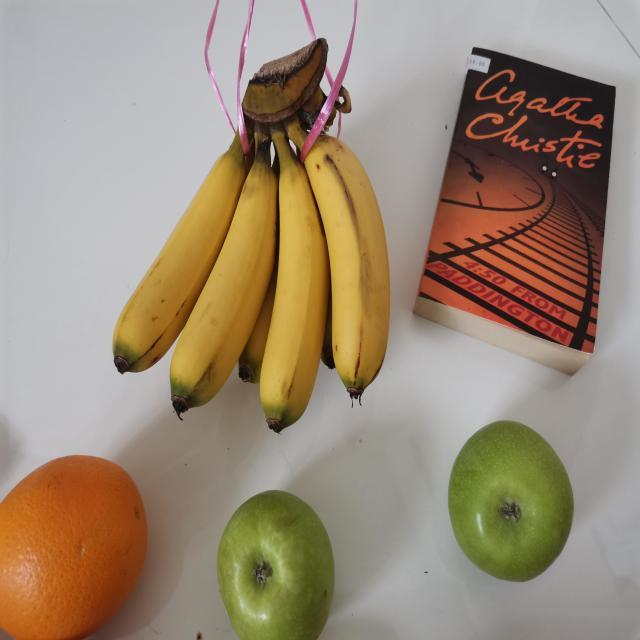Apple: (445, 418, 577, 586), (214, 485, 336, 639)
Banana: (108, 38, 394, 432)
Book: (410, 48, 619, 378)
Orange: (0, 456, 148, 639)
